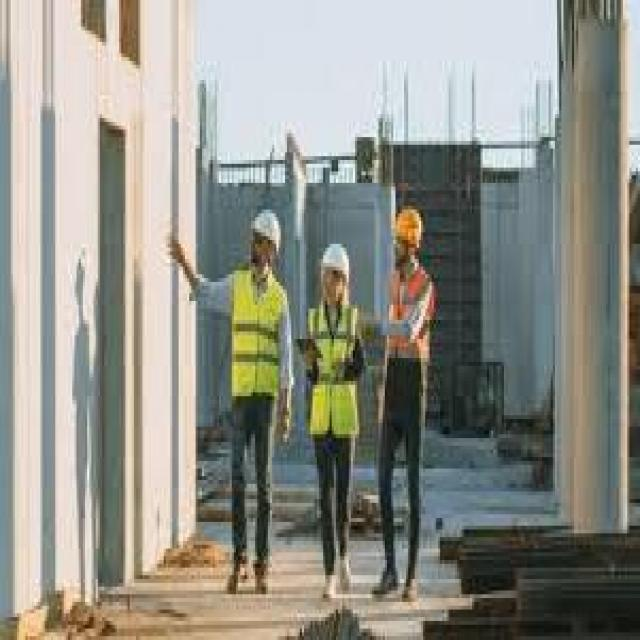Reflective-Jacket: (223, 267, 289, 419), (302, 294, 366, 449), (383, 259, 438, 373)
Safety-Helmet: (389, 198, 427, 255), (247, 202, 285, 255), (317, 232, 353, 282)
